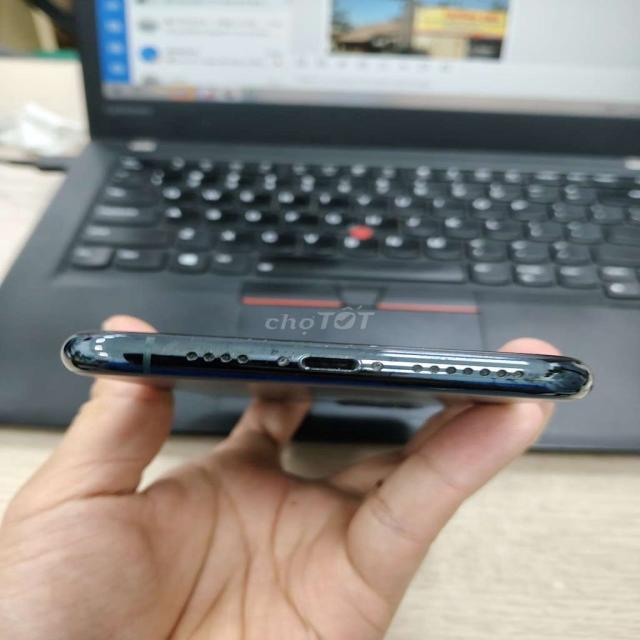gen_11: (53, 312, 605, 438)
scratch: (167, 322, 427, 392)
